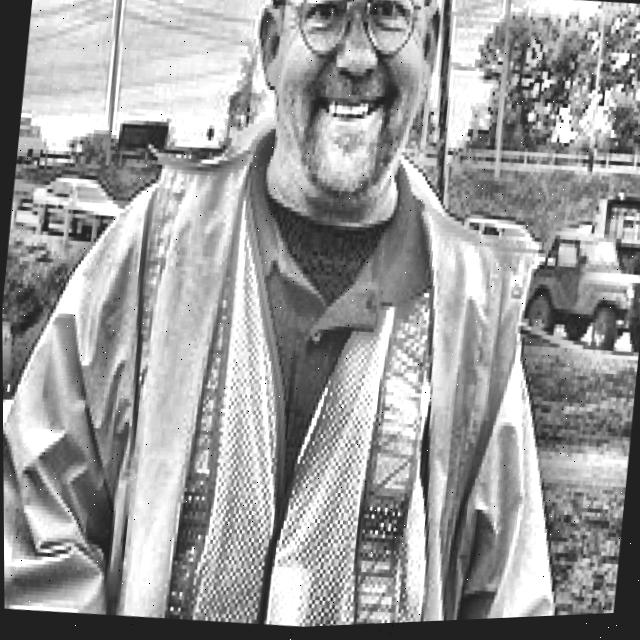light_vehicle: (515, 222, 640, 365), (23, 161, 133, 249), (456, 211, 552, 278), (16, 108, 47, 161)
